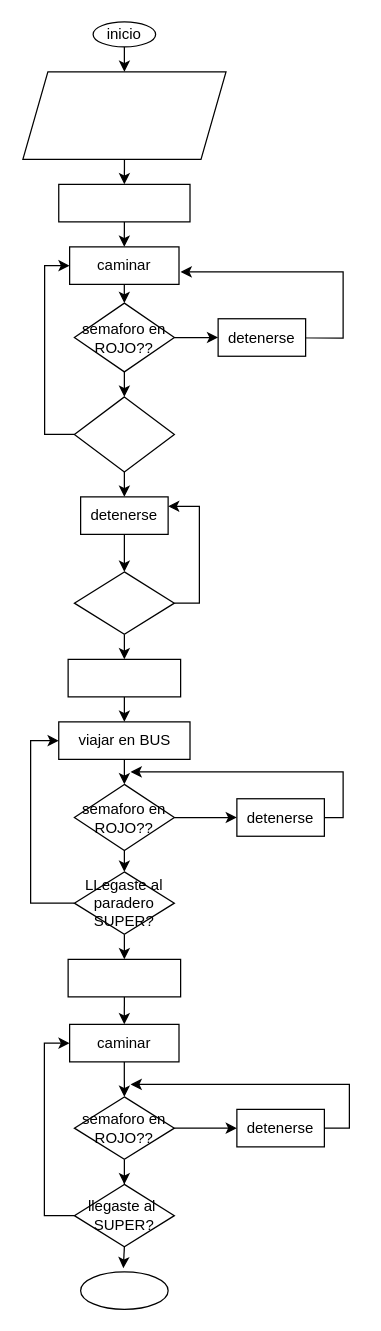
Some shapes in this 381 by 1331 pixel diagram are drawn without their labels. The centre of each missing label's shape, as x and y in pixels:
"a++;" belongs at point (124, 202).
"avanzar=> a=0; detenerse=~a; caminar=a; viajarBus=3a;" belongs at point (124, 115).
"bajar BUS" belongs at point (124, 977).
"fin" belongs at point (123, 1290).
"llegaste a paradero?" belongs at point (123, 434).
"Llegó el BUS?" belongs at point (123, 602).
"subir al BUS" belongs at point (124, 677).
